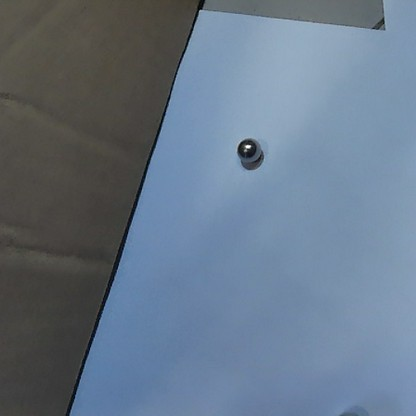ironball: (232, 135, 266, 165)
